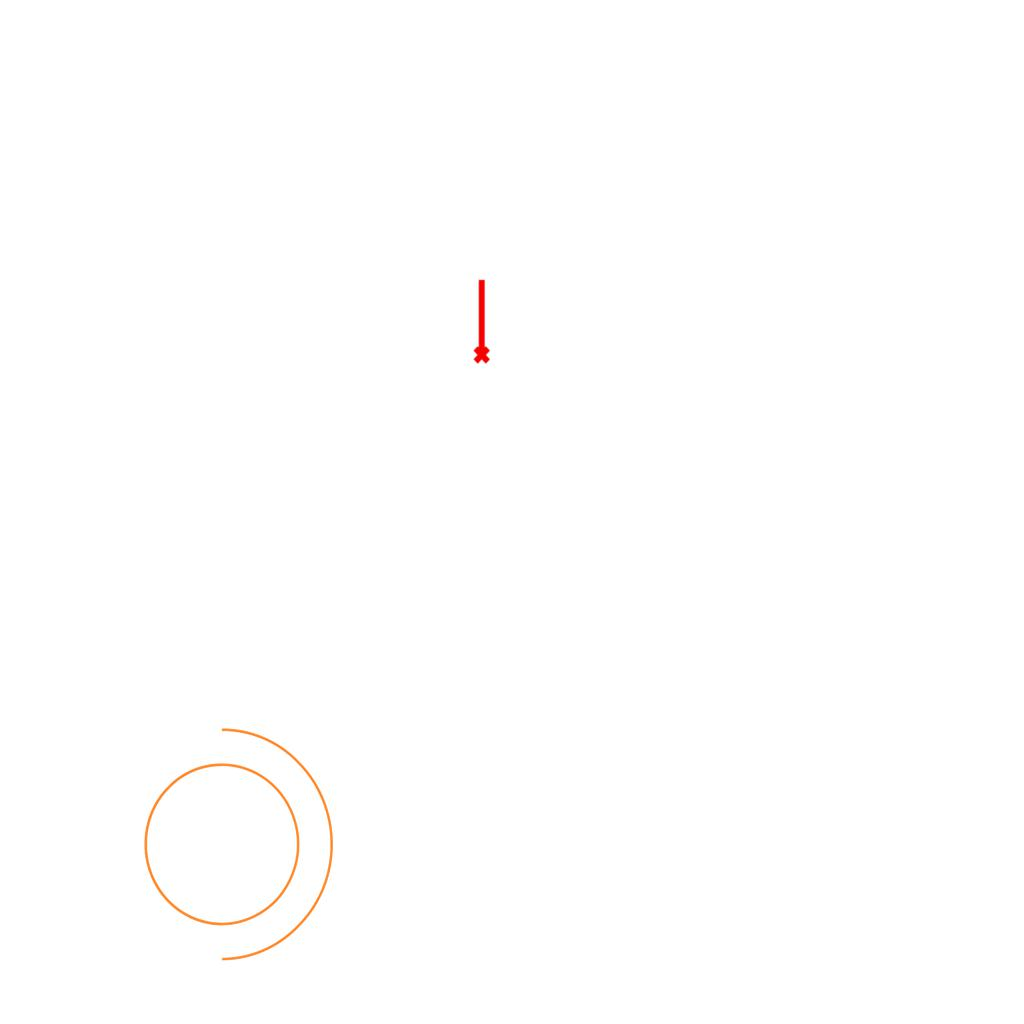ASR_Ansaugoeffnung: (469, 277, 492, 365)
Scheinwerfer_fuer_Alarmbeleuchtung: (119, 706, 344, 970)
